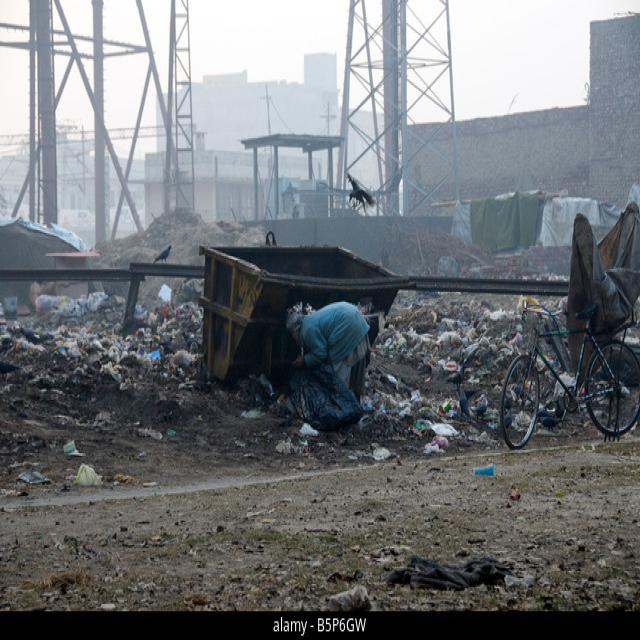trash: (397, 305, 638, 446), (17, 295, 213, 403), (458, 207, 626, 299), (240, 373, 367, 453)
